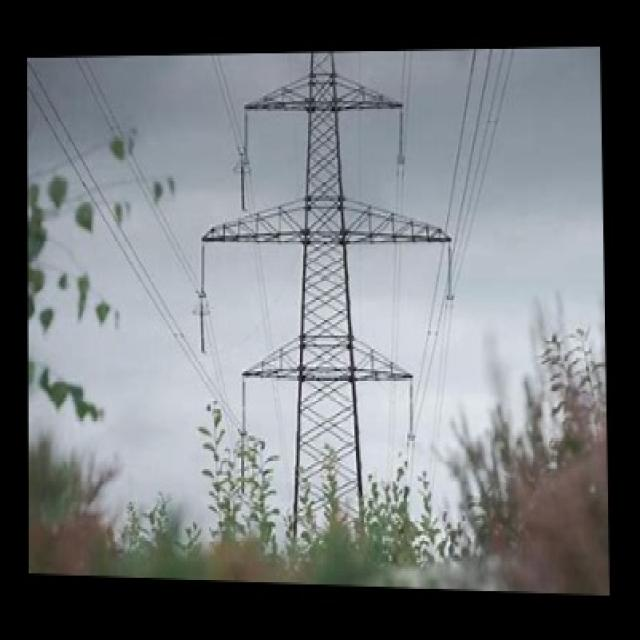utility poles: (186, 352, 475, 583)
